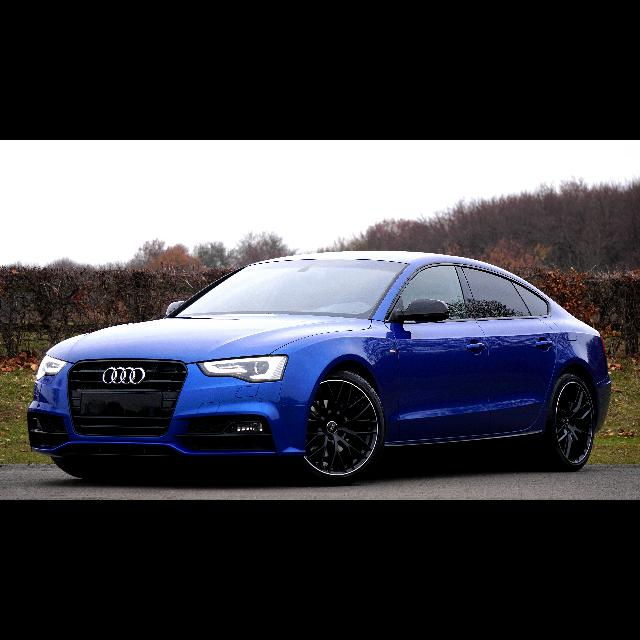cars: (25, 244, 613, 486)
